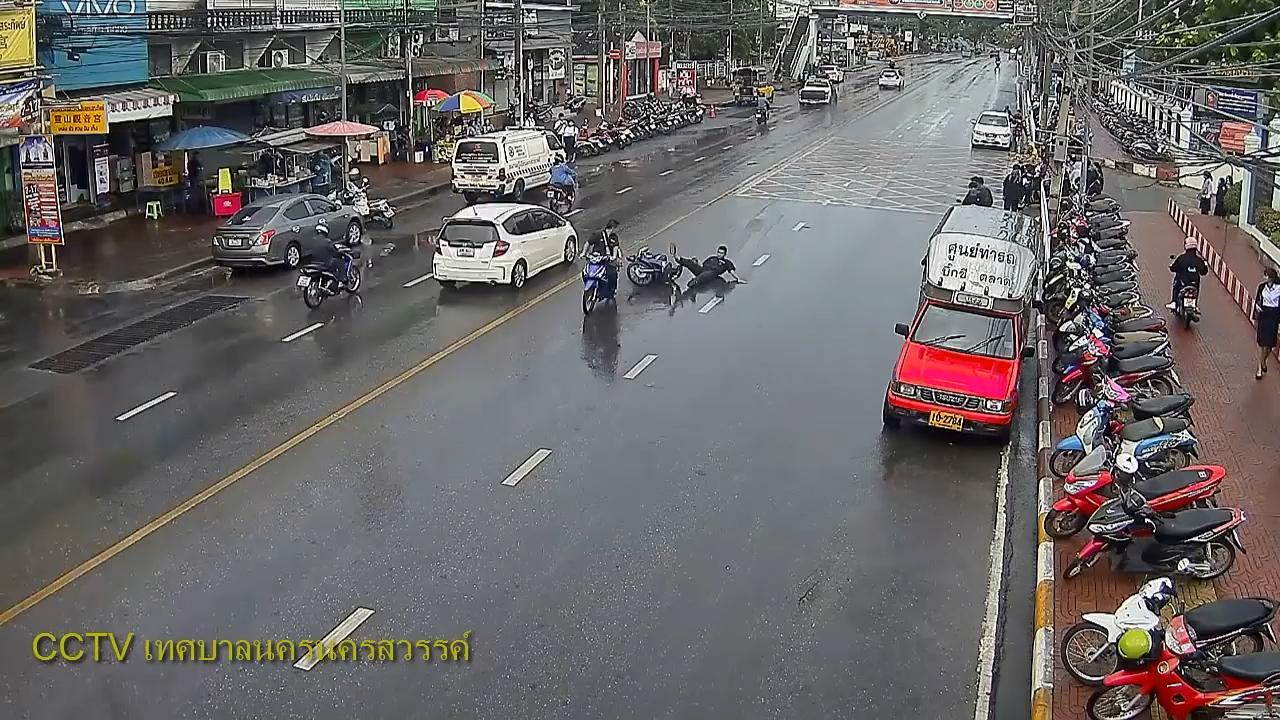accident: (668, 239, 747, 300)
